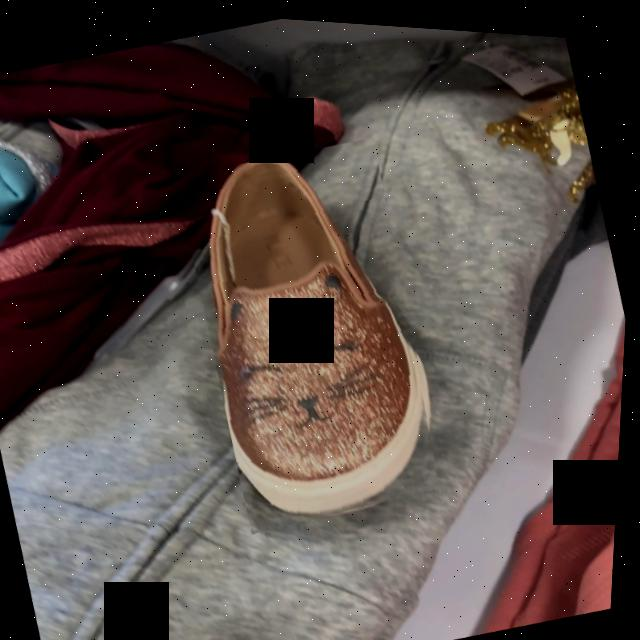shoe: (211, 153, 428, 513)
